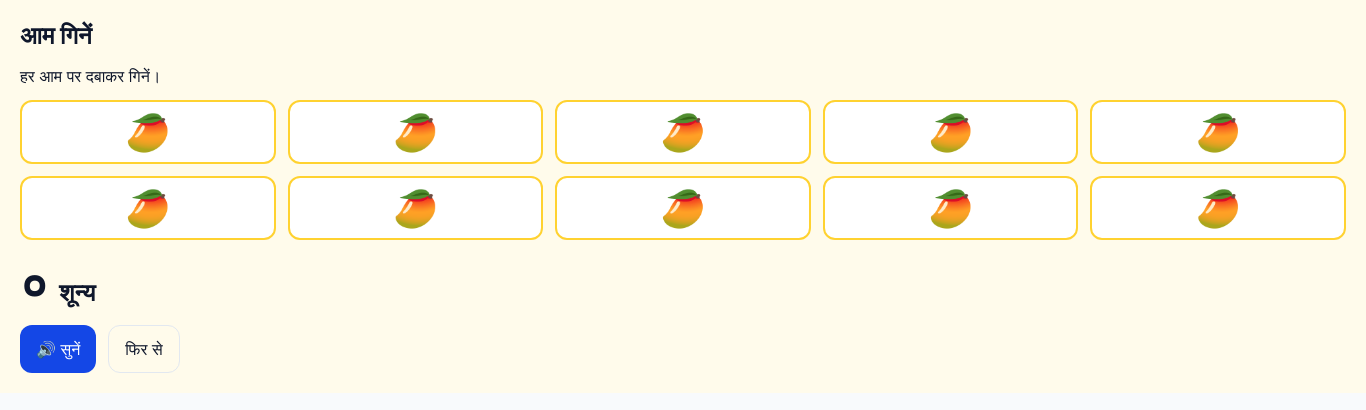
Test: accessible primary activities › counts Hindi mangoes using accessible toggle buttons
Click the button named "Mango 1" at coordinates (148, 132), box x1=20 y1=100 x2=276 y2=164
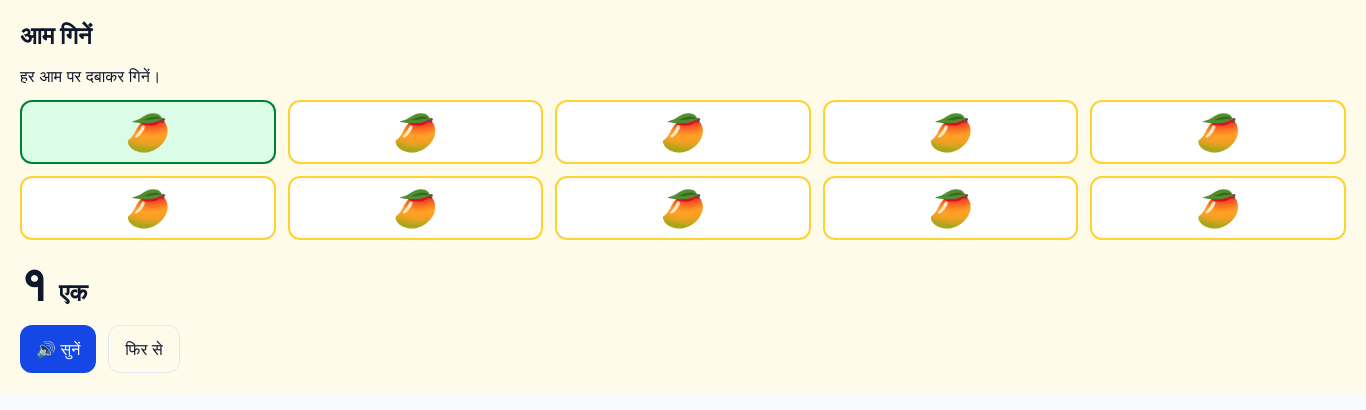
Expected: the text "एक" is shown, x1=59 y1=278 x2=87 y2=307
